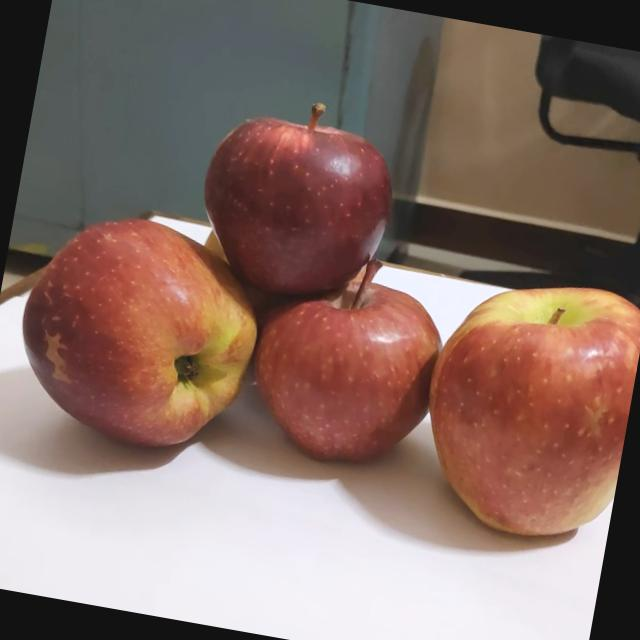apple: (393, 244, 640, 553), (0, 186, 267, 462), (174, 68, 409, 308), (231, 224, 449, 472), (182, 207, 238, 271)
